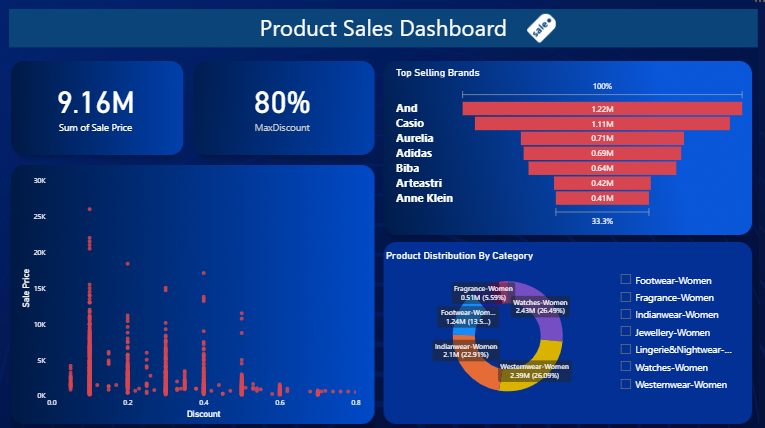

The dashboard page shown, as its layout file describes it:
{"tool":"powerbi","page":{"name":"Dashboard","canvas":[1280,720],"ordinal":0},"visuals":[{"type":"card","fields":{"Values":["Sum(Sales.Price)"]},"box":[16,96,288,160],"z":0},{"type":"textbox","box":[16,16,1248,64],"z":1000},{"type":"card","fields":{"Values":["Sales.MaxDiscount"]},"box":[320,96,304,160],"z":2000},{"type":"scatterChart","fields":{"Y":["Sales.Price"],"X":["Sales.Discount"]},"box":[16,272,608,432],"z":3000},{"type":"funnel","fields":{"Category":["Sales.BrandName"],"Y":["Sum(Sales.Price)"]},"box":[640,96,624,288],"z":4000},{"type":"donutChart","fields":{"Category":["Sales.Category"],"Y":["Sum(Sales.Price)"]},"box":[640,400,400,304],"z":5000},{"type":"slicer","fields":{"Values":["Sales.Category"]},"box":[1056,400,208,304],"z":6000}]}

Visuals, with their boxes in screenshot pixels (x1, y1, x2, y2), scaled from the page's 1280x720 canvas onto the 765x428 screenshot:
card - Sum(Sales.Price): 10,57,182,152
textbox: 10,10,755,48
card - Sales.MaxDiscount: 191,57,373,152
scatterChart - Sales.Price x Sales.Discount: 10,162,373,418
funnel - Sales.BrandName x Sum(Sales.Price): 382,57,755,228
donutChart - Sales.Category x Sum(Sales.Price): 382,238,622,418
slicer - Sales.Category: 631,238,755,418
